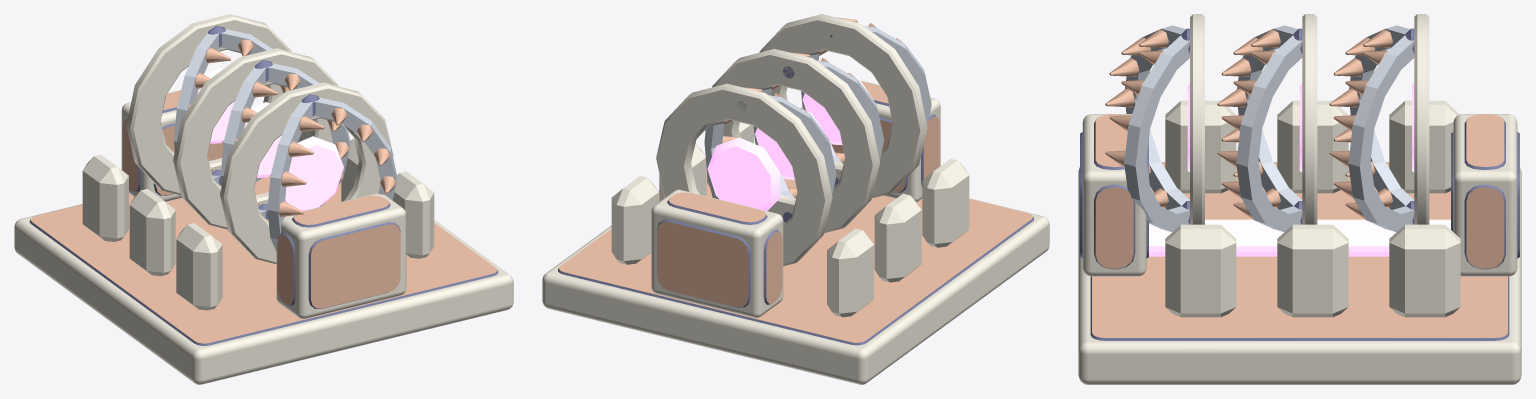
File: R4X_SnareTrapDeployer.fbx
3 views of the same model, side by side, from view 1: azimuth 30°, elevation 25°; view 2: azimuth 150°, elevation 25°; view 3: azimuth 270°, elevation 25° (orthographic). The views are drawn at different scales.
Visible parts, largest first — view 1: R4X_SnareTrapDeployer_Body, R4X_SnareTrapDeployer_Payload; view 2: R4X_SnareTrapDeployer_Body, R4X_SnareTrapDeployer_Payload; view 3: R4X_SnareTrapDeployer_Body, R4X_SnareTrapDeployer_Payload.
Part boxes in pixels (x1,y1,x2,y2): R4X_SnareTrapDeployer_Body: (14,90,513,384); R4X_SnareTrapDeployer_Payload: (126,14,397,264); R4X_SnareTrapDeployer_Body: (542,80,1049,384); R4X_SnareTrapDeployer_Payload: (656,14,931,266); R4X_SnareTrapDeployer_Body: (1078,100,1521,384); R4X_SnareTrapDeployer_Payload: (1105,14,1429,232).
Bounding box in the file's own units: 0.514 × 0.3479 × 0.514.
